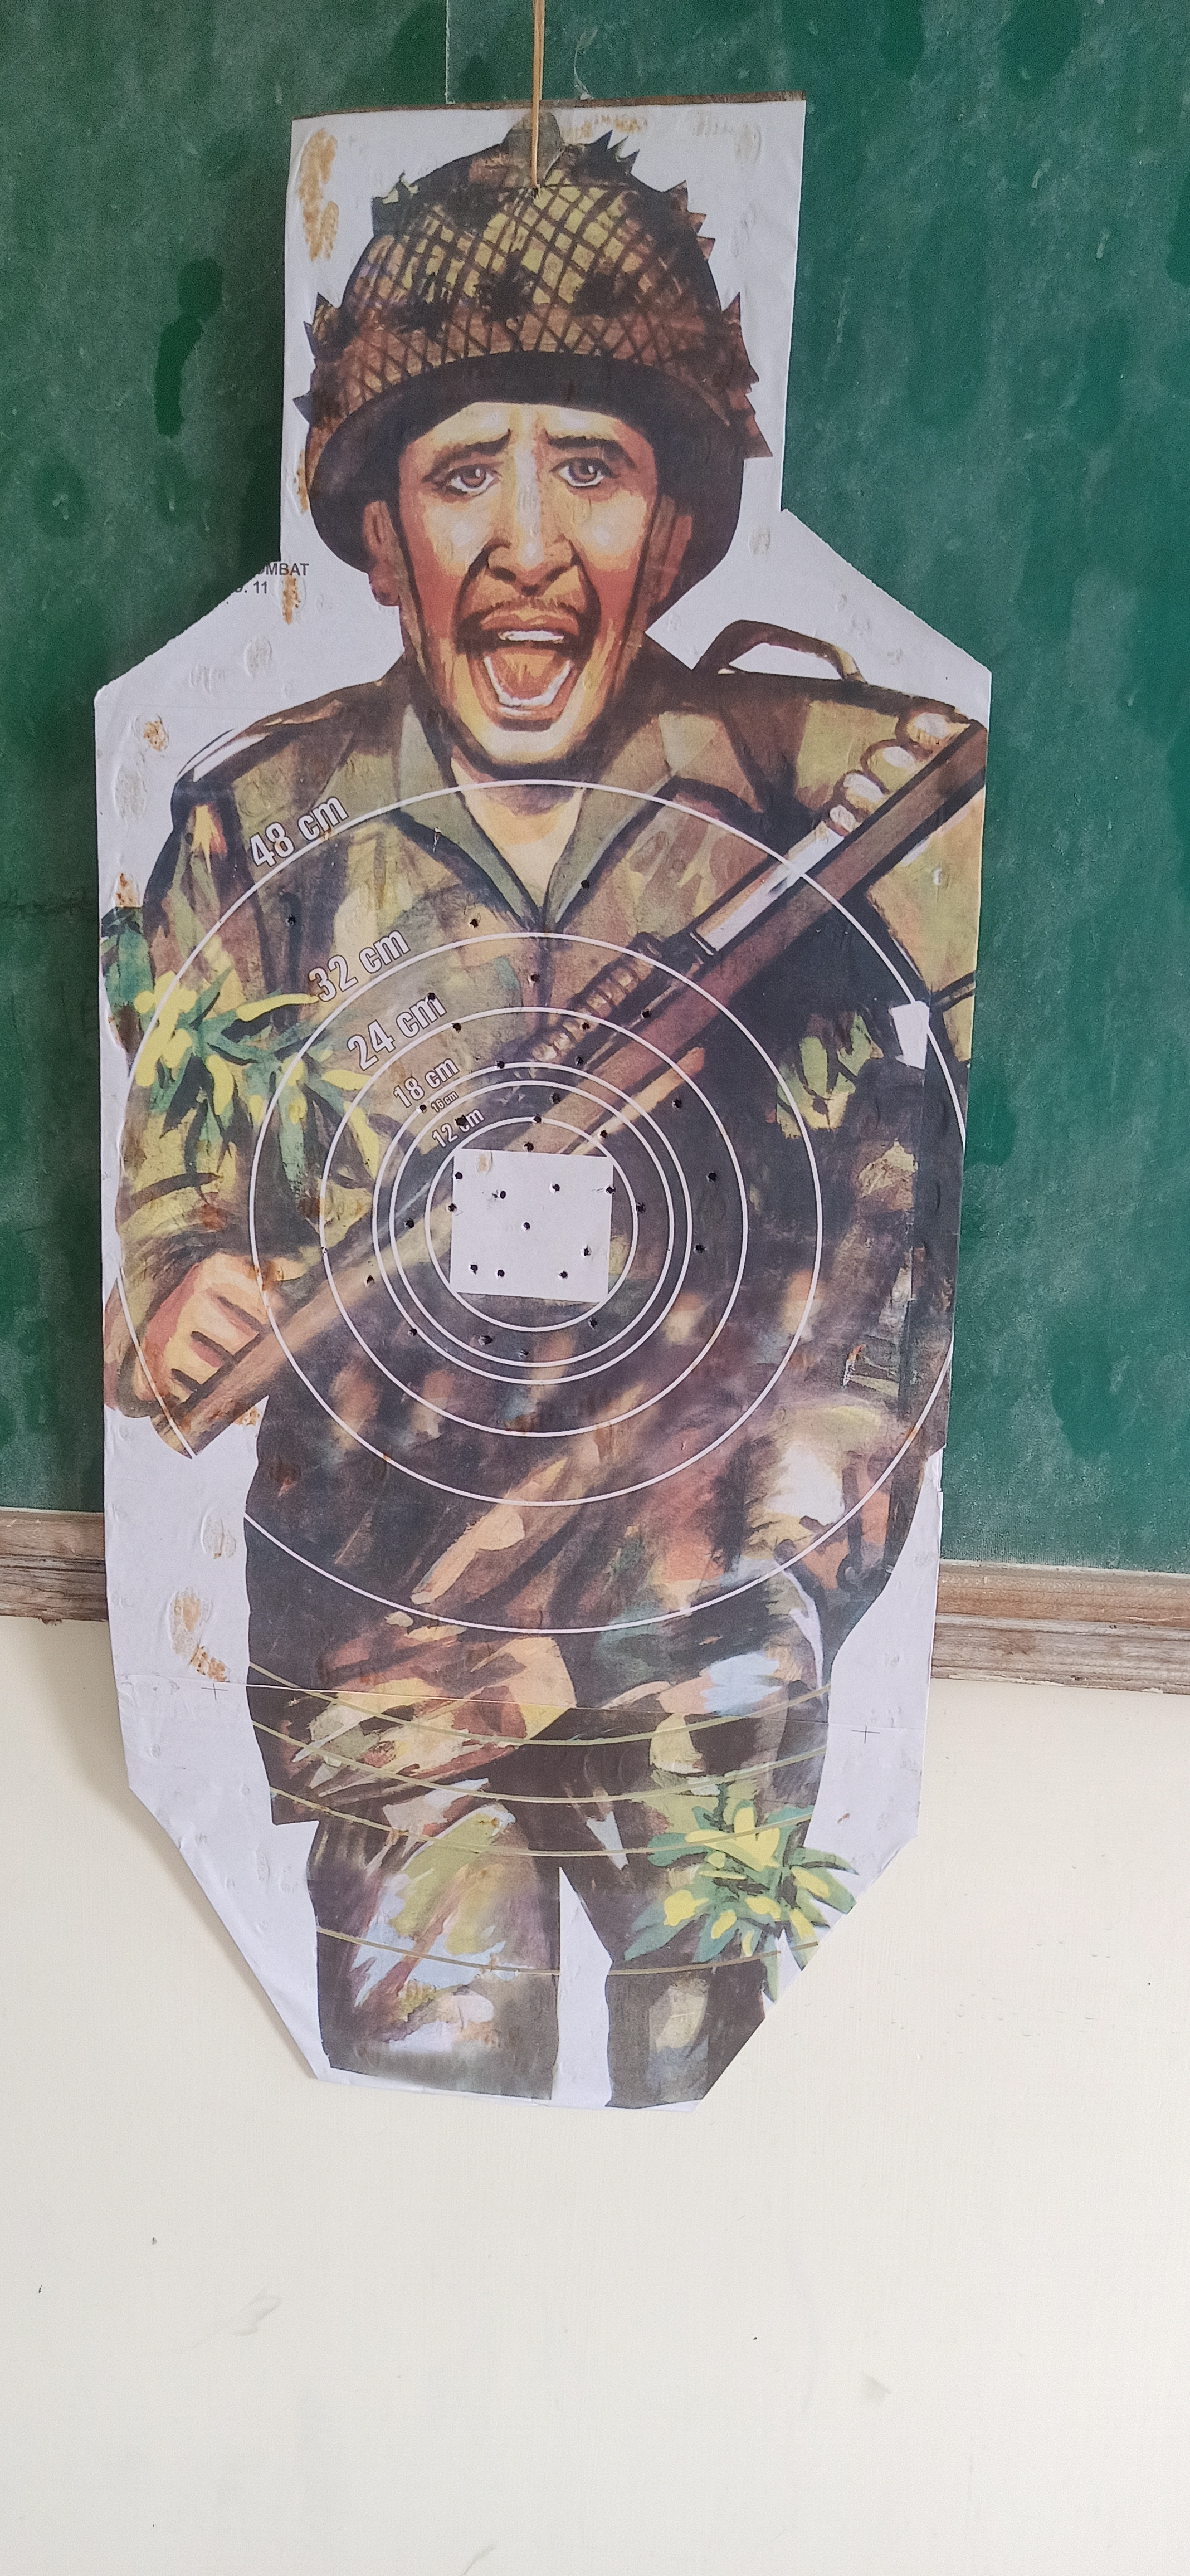bullet hit: (281, 912, 306, 928), (690, 1242, 710, 1258), (401, 1214, 417, 1234), (454, 1111, 470, 1130), (468, 913, 485, 931), (450, 1168, 467, 1184), (575, 877, 593, 892), (639, 1007, 654, 1025), (514, 1347, 531, 1362), (707, 1170, 722, 1186), (422, 987, 439, 1002), (572, 1055, 588, 1069), (467, 1263, 483, 1278), (605, 1184, 621, 1199), (547, 1181, 564, 1196), (549, 1089, 564, 1106), (587, 1314, 600, 1332), (519, 1219, 534, 1234), (495, 1058, 510, 1073), (445, 1201, 460, 1216), (634, 1199, 648, 1216), (669, 1097, 685, 1111), (580, 1244, 593, 1260), (523, 1138, 536, 1155), (478, 1334, 495, 1347), (417, 1101, 431, 1115), (491, 1268, 508, 1280), (495, 1189, 511, 1201), (529, 1114, 546, 1125), (406, 1326, 422, 1337), (557, 1270, 570, 1283), (528, 973, 541, 986), (363, 1275, 376, 1288), (452, 1022, 464, 1037), (579, 1022, 595, 1032), (598, 1127, 610, 1140)
white box: (447, 1147, 616, 1303)
